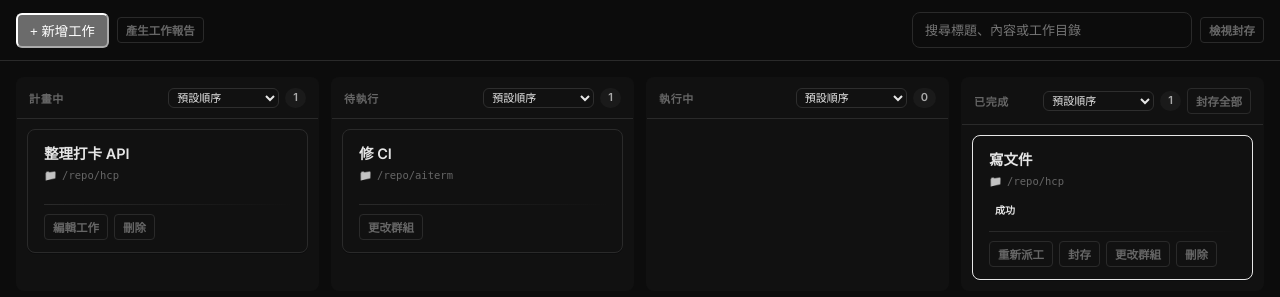
Test: ProjectBoard › 看板搜尋 › 跨欄過濾，只留下符合的卡片
Expected: the text "整理打卡 API" is shown, [44, 145, 130, 162]
In the field with test id "board-search": [1052, 30] box [912, 12, 1192, 48], type "打卡"
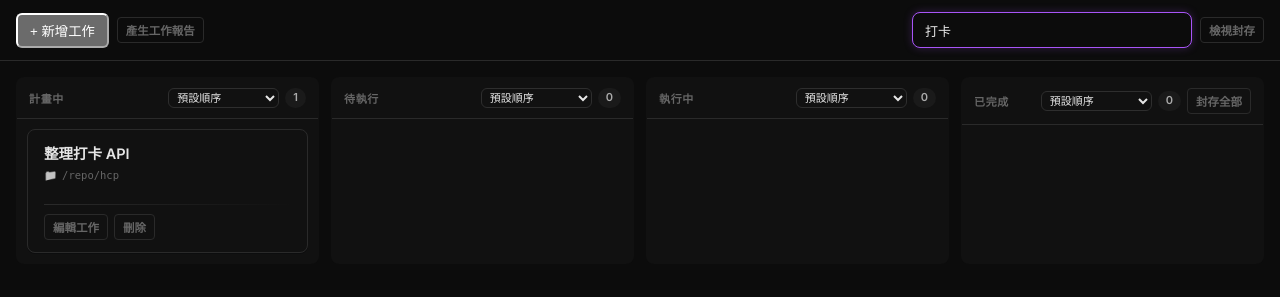
Expected: the text "整理打卡 API" is shown, [44, 145, 130, 162]
Now the text "修 CI" is gone
Now the text "寫文件" is gone
